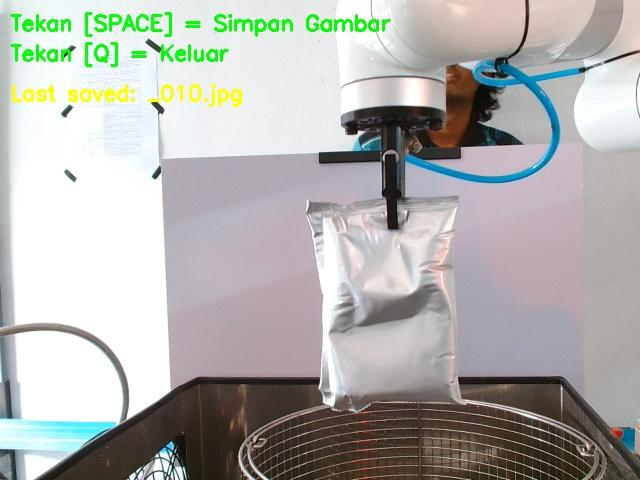retort-pouch: (303, 194, 466, 412)
